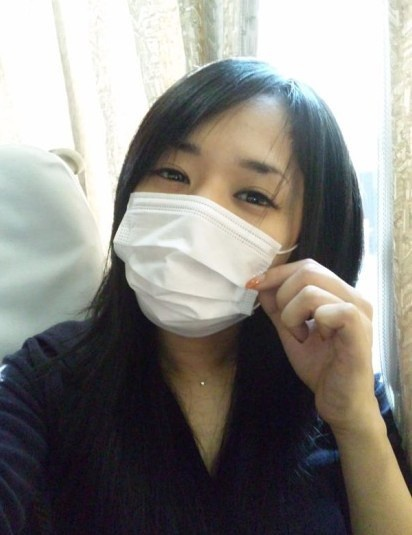face_mask: (111, 92, 285, 335)
